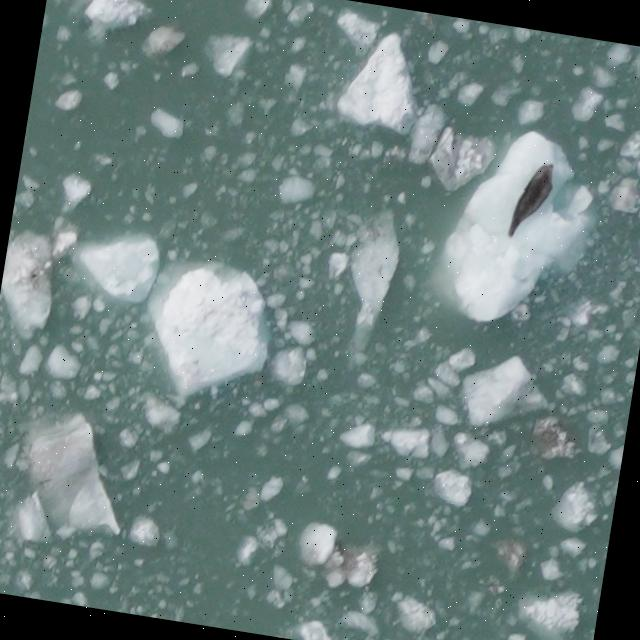seal: (502, 155, 560, 250)
